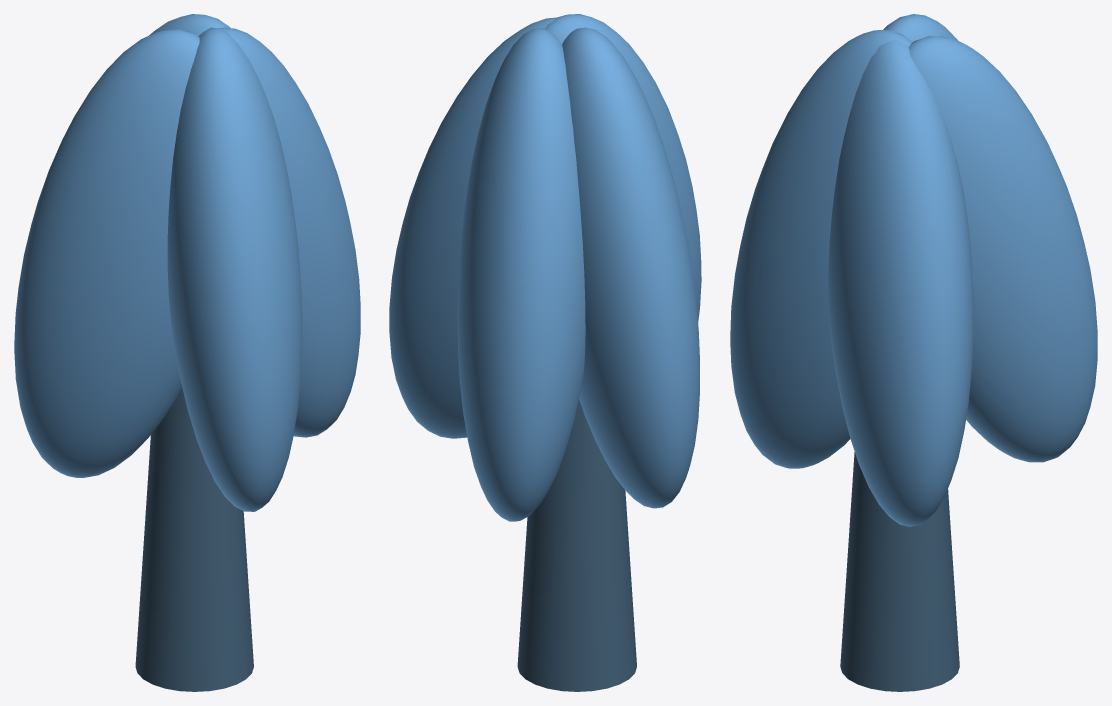
File: SadnessLv2.glb
3 views of the same model, side by side, from view 1: azimuth 30°, elevation 25°; view 2: azimuth 150°, elevation 25°; view 3: azimuth 270°, elevation 25° (orthographic).
Visible parts, largest first — view 1: GeoSphere086, GeoSphere084, Batang028, GeoSphere085, GeoSphere083; view 2: GeoSphere083, GeoSphere086, Batang028, GeoSphere085, GeoSphere084; view 3: GeoSphere085, GeoSphere083, GeoSphere084, Batang028, GeoSphere086.
Part boxes in pixels (left/top/right/bottom): GeoSphere086: left=14, top=29, right=199, bottom=477; GeoSphere084: left=167, top=27, right=302, bottom=511; Batang028: left=135, top=387, right=253, bottom=691; GeoSphere085: left=220, top=27, right=360, bottom=437; GeoSphere083: left=149, top=14, right=230, bottom=36; GeoSphere083: left=457, top=28, right=585, bottom=521; GeoSphere086: left=562, top=27, right=699, bottom=508; Batang028: left=517, top=399, right=636, bottom=691; GeoSphere085: left=389, top=17, right=555, bottom=438; GeoSphere084: left=545, top=14, right=701, bottom=322; GeoSphere085: left=828, top=40, right=973, bottom=526; GeoSphere083: left=908, top=36, right=1097, bottom=462; GeoSphere084: left=730, top=30, right=912, bottom=468; Batang028: left=840, top=452, right=959, bottom=691; GeoSphere086: left=883, top=14, right=957, bottom=41.
Size of the model in its own units: 0.4463 by 0.8666 by 0.45.
